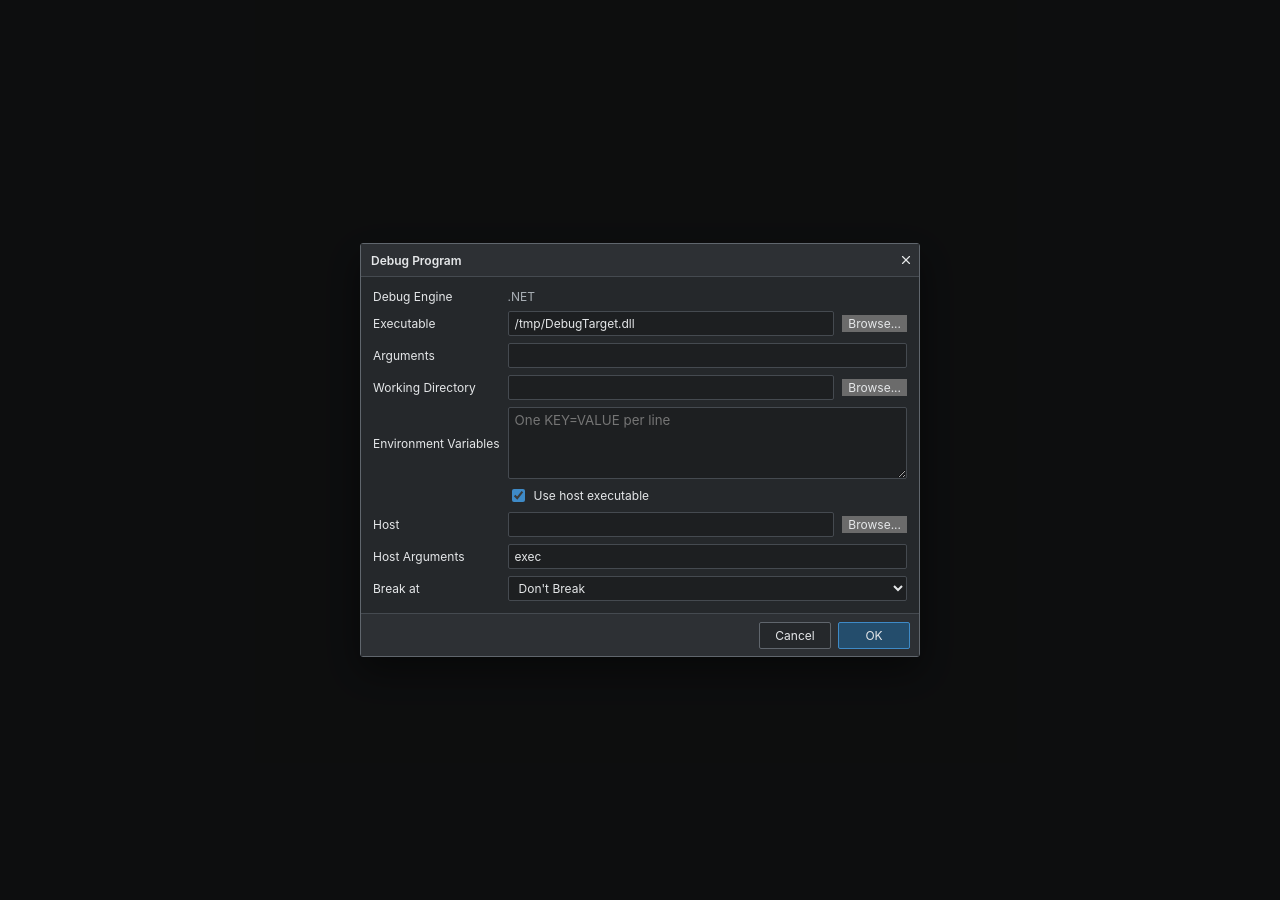
Test: DebugProgramDialog › flags a host path that is not a file, but leaves a blank one alone
Expected: the button "OK" is enabled, left=838, top=622, right=910, bottom=648
Type "/tmp/GoneDotnet" into the field labelled "Host" at (671, 524), box left=508, top=512, right=834, bottom=537
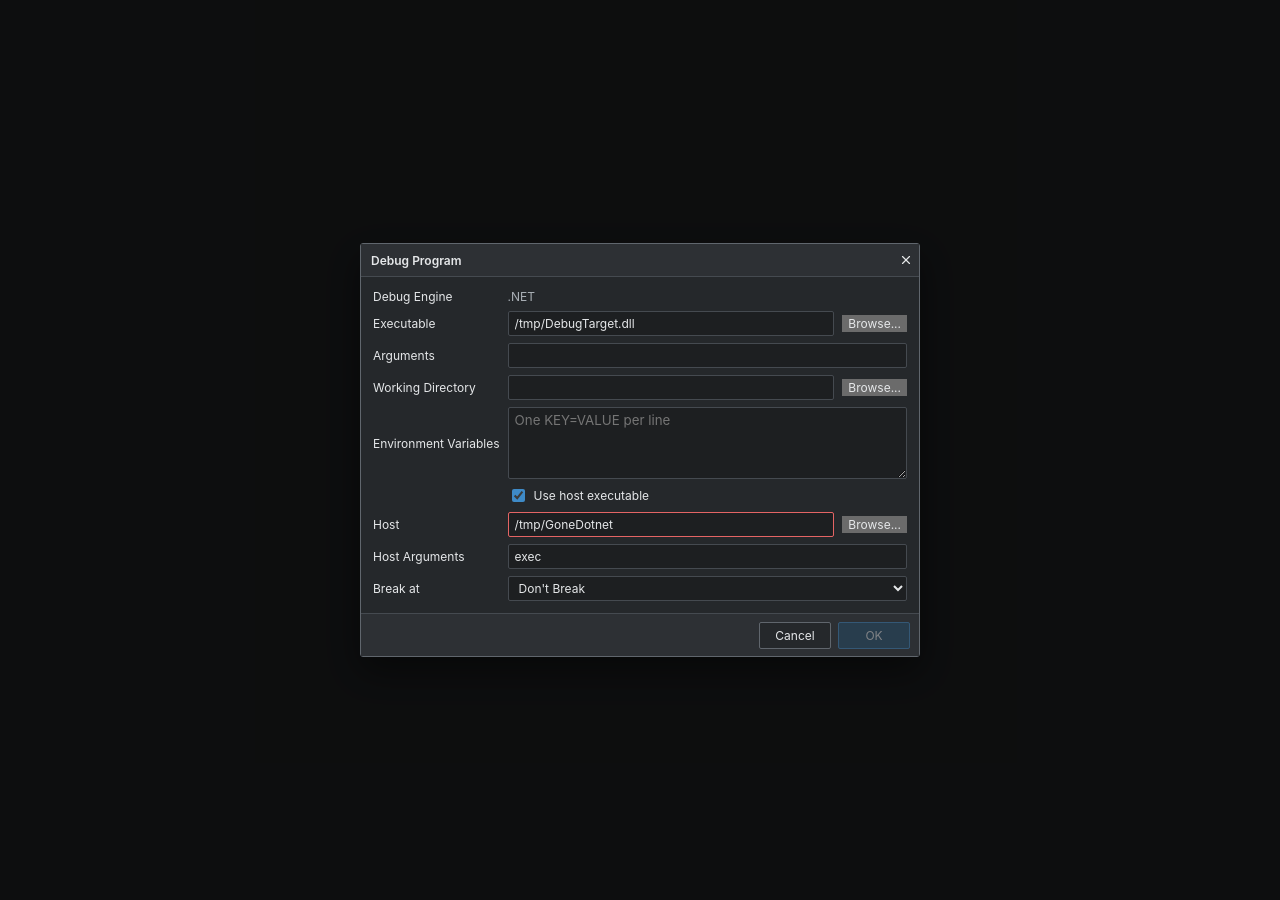
Expected: the button "OK" is disabled, left=838, top=622, right=910, bottom=648
